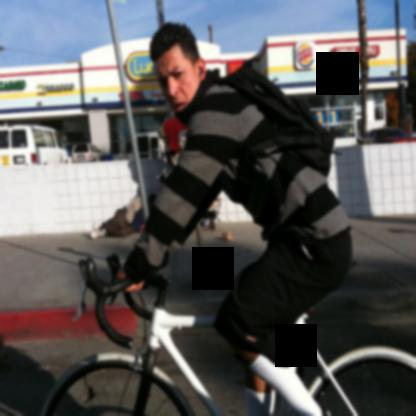backpack: (225, 62, 336, 179)
